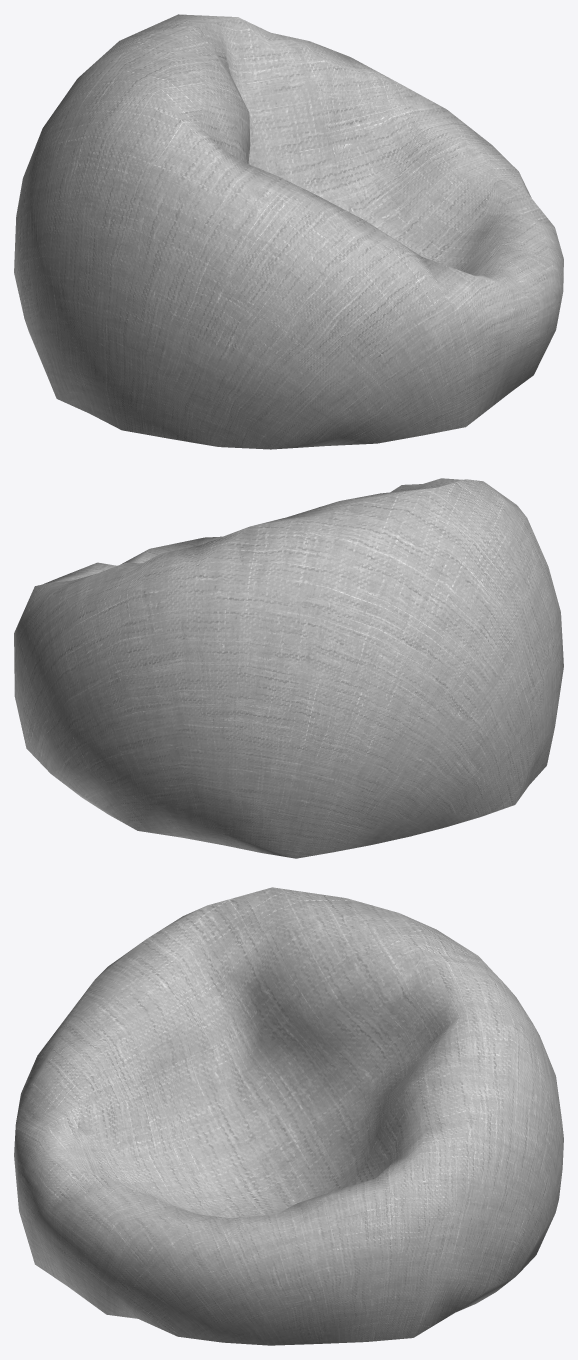
Rendered from Bean Bag 2.fbx.
3 views of the same model, one above another, from view 1: azimuth 30°, elevation 25°; view 2: azimuth 150°, elevation 25°; view 3: azimuth 270°, elevation 25° (orthographic).
Visible parts, largest first — view 1: Beanbag 2; view 2: Beanbag 2; view 3: Beanbag 2.
Boxes of the visible parts, box(x1,y1,x2,y2) form: Beanbag 2: box(14, 14, 563, 449); Beanbag 2: box(14, 478, 563, 858); Beanbag 2: box(14, 887, 563, 1345).
Bounding box in the file's own units: 202 × 117 × 203.
